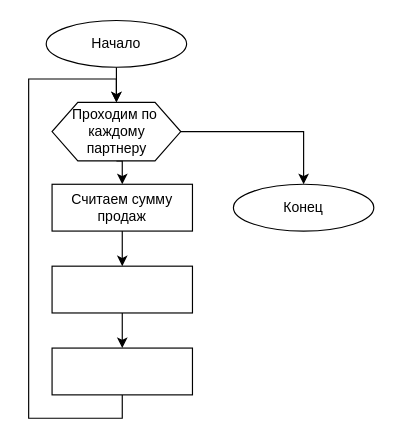
Some shapes in this 394 by 448 pixel diagram are drawn without their labels. The shapes that lost their labels are listed below. From the top down, each one's centre as x and y in pixels, then its label:
At pixel 121 289: "Находим диапазон, где находится сумма".
At pixel 121 371: "Рассчитываем скидку".
